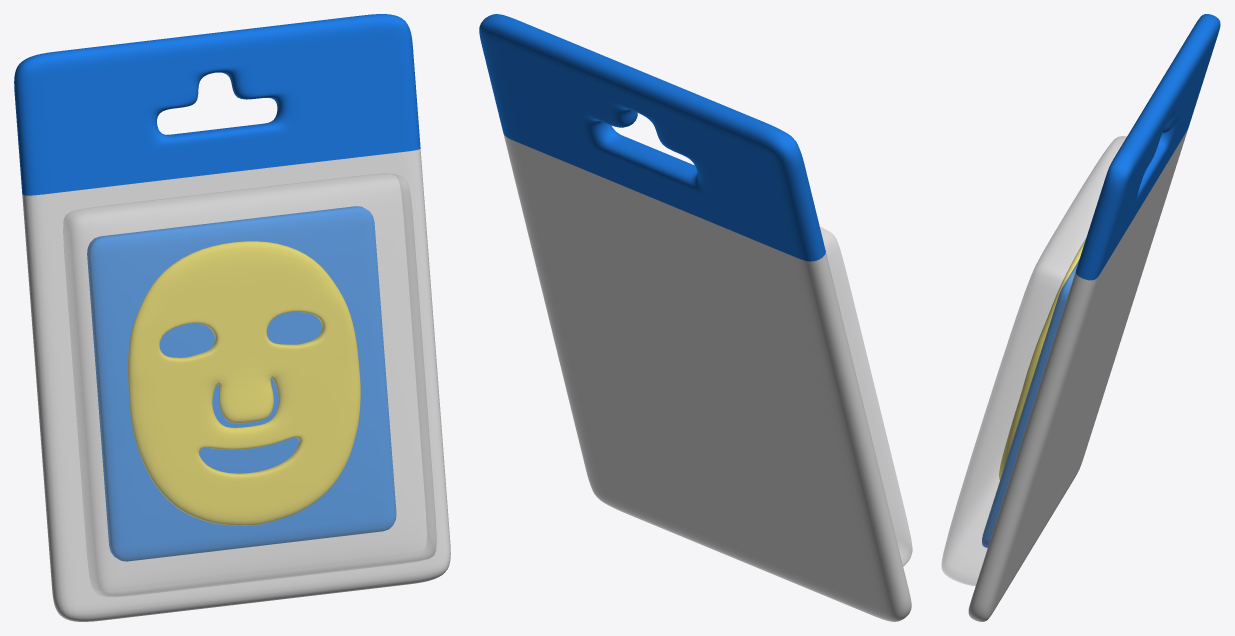
File: sheet-mask-3d-animated-icon-19478953459.glb
3 views of the same model, side by side, from view 1: azimuth 30°, elevation 25°; view 2: azimuth 150°, elevation 25°; view 3: azimuth 270°, elevation 25° (orthographic). The views are drawn at different scales.
Visible parts, largest first — view 1: Cube.027, Plane.049, Plane.002, Cube.026; view 2: Plane.049, Cube.027; view 3: Plane.049, Cube.027, Cube.026, Plane.002.
Boxes of the visible parts, x1,y1,x2,y2 form: Cube.027: (63, 173, 436, 597); Plane.049: (14, 14, 450, 621); Plane.002: (128, 241, 360, 525); Cube.026: (87, 206, 396, 561); Plane.049: (479, 14, 911, 621); Cube.027: (820, 227, 912, 566); Plane.049: (968, 14, 1220, 621); Cube.027: (941, 136, 1126, 585); Cube.026: (982, 261, 1078, 547); Plane.002: (999, 239, 1085, 479).
Bounding box in the file's own units: 3.38 × 4.33 × 2.28.
